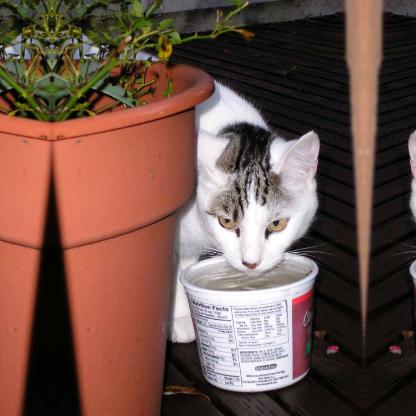Cat: (52, 32, 338, 346)
